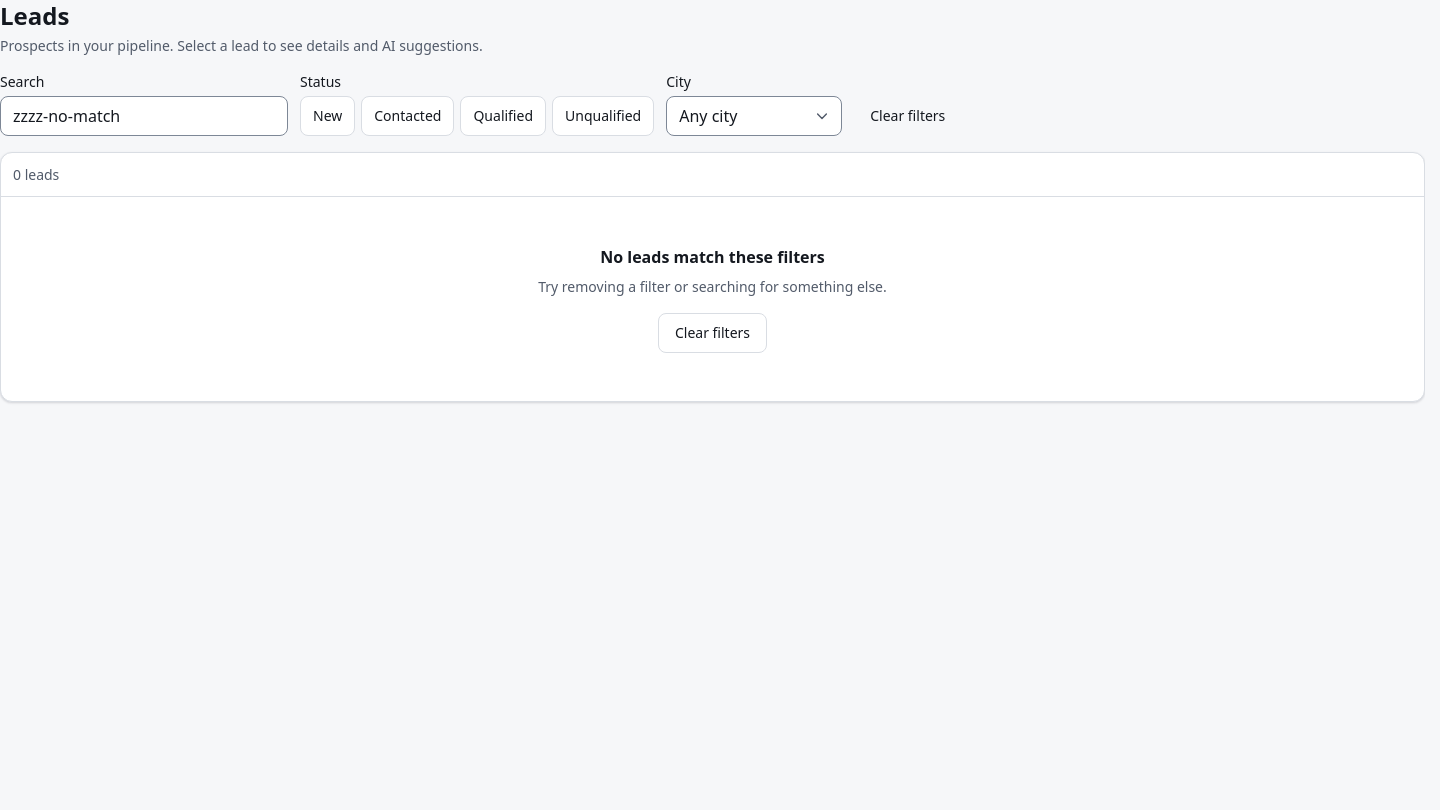
Test: leads list states › shows an empty state with a way out
The image size is (1440, 810).
expect the text "No leads match these filters" is shown: met, box [600,245,825,269]
Click the button "Clear filters" below "No leads match these filters": (712,333) [658,313,767,353]
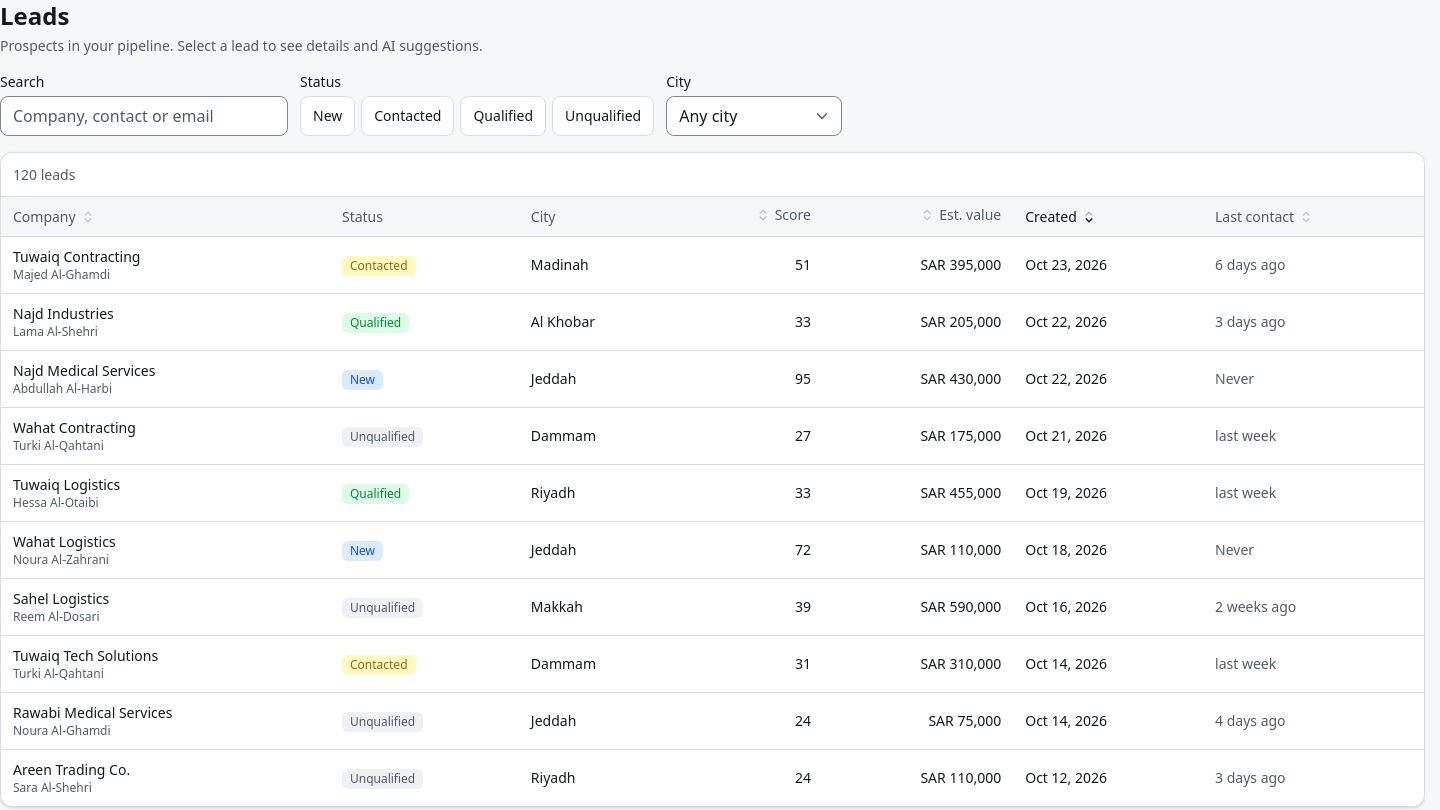
expect the text "120 leads" is shown: met, box [13,164,75,184]
